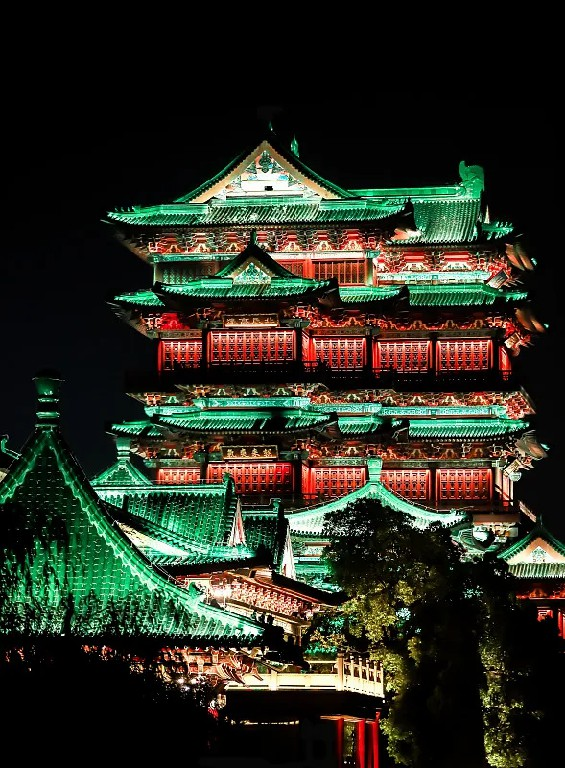Teng: (89, 129, 555, 538)
